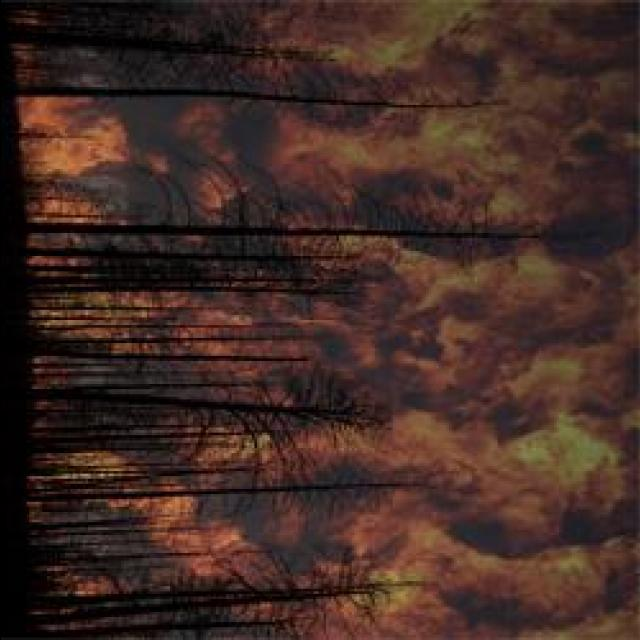fire: (28, 121, 124, 172)
smoke: (532, 4, 636, 274), (515, 424, 640, 637), (387, 286, 546, 428), (432, 548, 634, 640), (352, 0, 528, 97)
